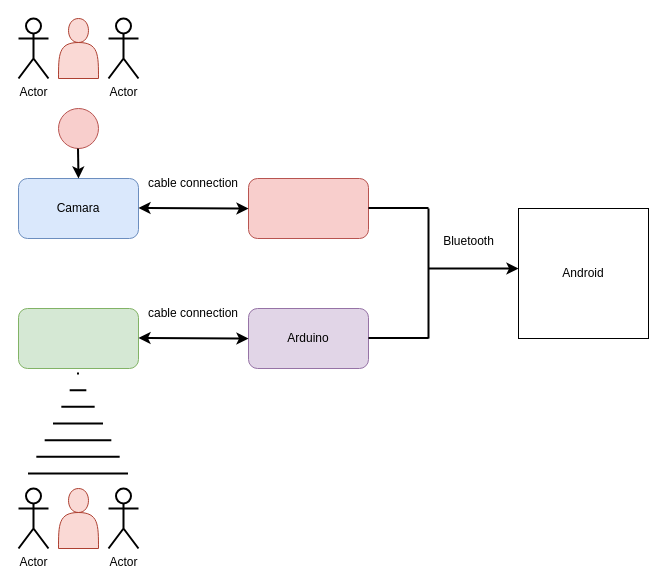
The diagram is 666 pixels wide and 586 high, and some of its shapes have lost their labels. Here are the shapes that lost their labels. From the top down, the box of each, then its label:
(58, 108, 98, 148): button
(248, 178, 368, 238): Raspberry PI
(18, 308, 138, 368): Sensor
